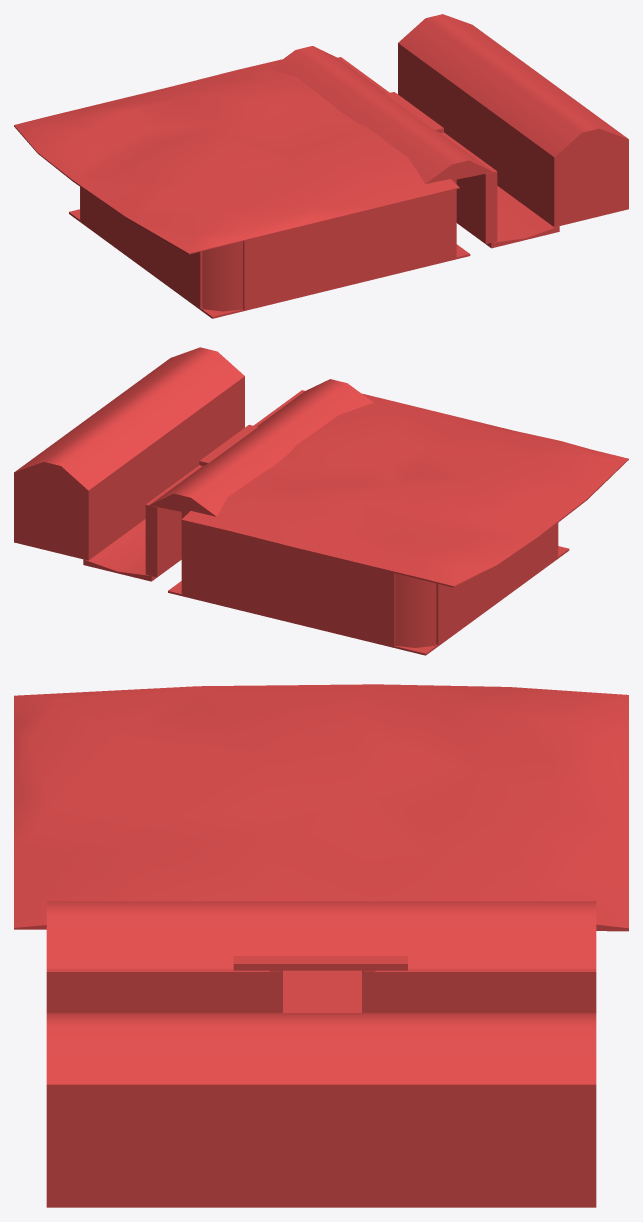
Rendered from Room_A_Wood_COL.fbx.
The picture shows the model from 3 angles, top to bottom: view 1: azimuth 30°, elevation 25°; view 2: azimuth 150°, elevation 25°; view 3: azimuth 270°, elevation 25°; orthographic projection. The views are drawn at different scales.
Parts seen in each view (by area): view 1: Room_A_Wood_COL; view 2: Room_A_Wood_COL; view 3: Room_A_Wood_COL.
Boxes of the visible parts, box(x1,y1,x2,y2) form: Room_A_Wood_COL: box(14, 14, 628, 318); Room_A_Wood_COL: box(14, 347, 628, 655); Room_A_Wood_COL: box(14, 684, 628, 1207).
Bounding box in the file's own units: 1363 × 301 × 895.
